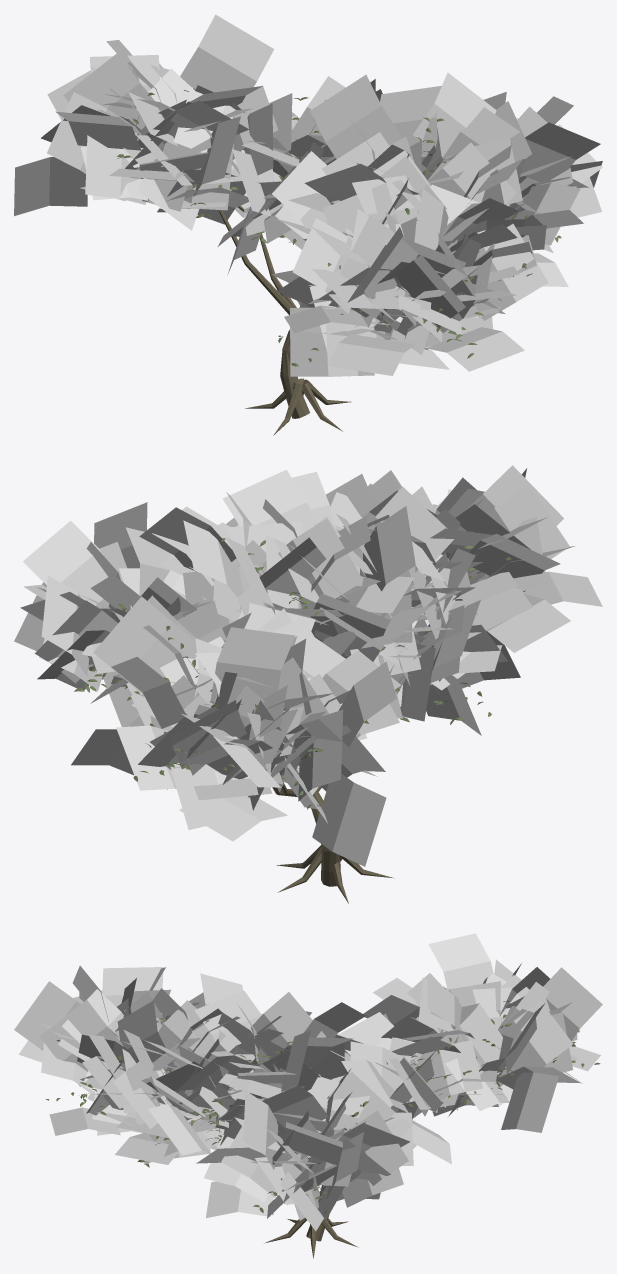
File: Oleastre_Etale_LOD1.fbx
The picture shows the model from 3 angles, top to bottom: view 1: azimuth 30°, elevation 25°; view 2: azimuth 150°, elevation 25°; view 3: azimuth 270°, elevation 25°; orthographic projection. The views are drawn at different scales.
Visible parts, largest first — view 1: Oleastre_Etale_LOD1; view 2: Oleastre_Etale_LOD1; view 3: Oleastre_Etale_LOD1.
Part boxes in pixels (box(x1,y1,x2,y2)): Oleastre_Etale_LOD1: box(14, 14, 602, 435); Oleastre_Etale_LOD1: box(14, 465, 602, 903); Oleastre_Etale_LOD1: box(14, 933, 602, 1258).
Bounding box in the file's own units: 586 × 380 × 741.
